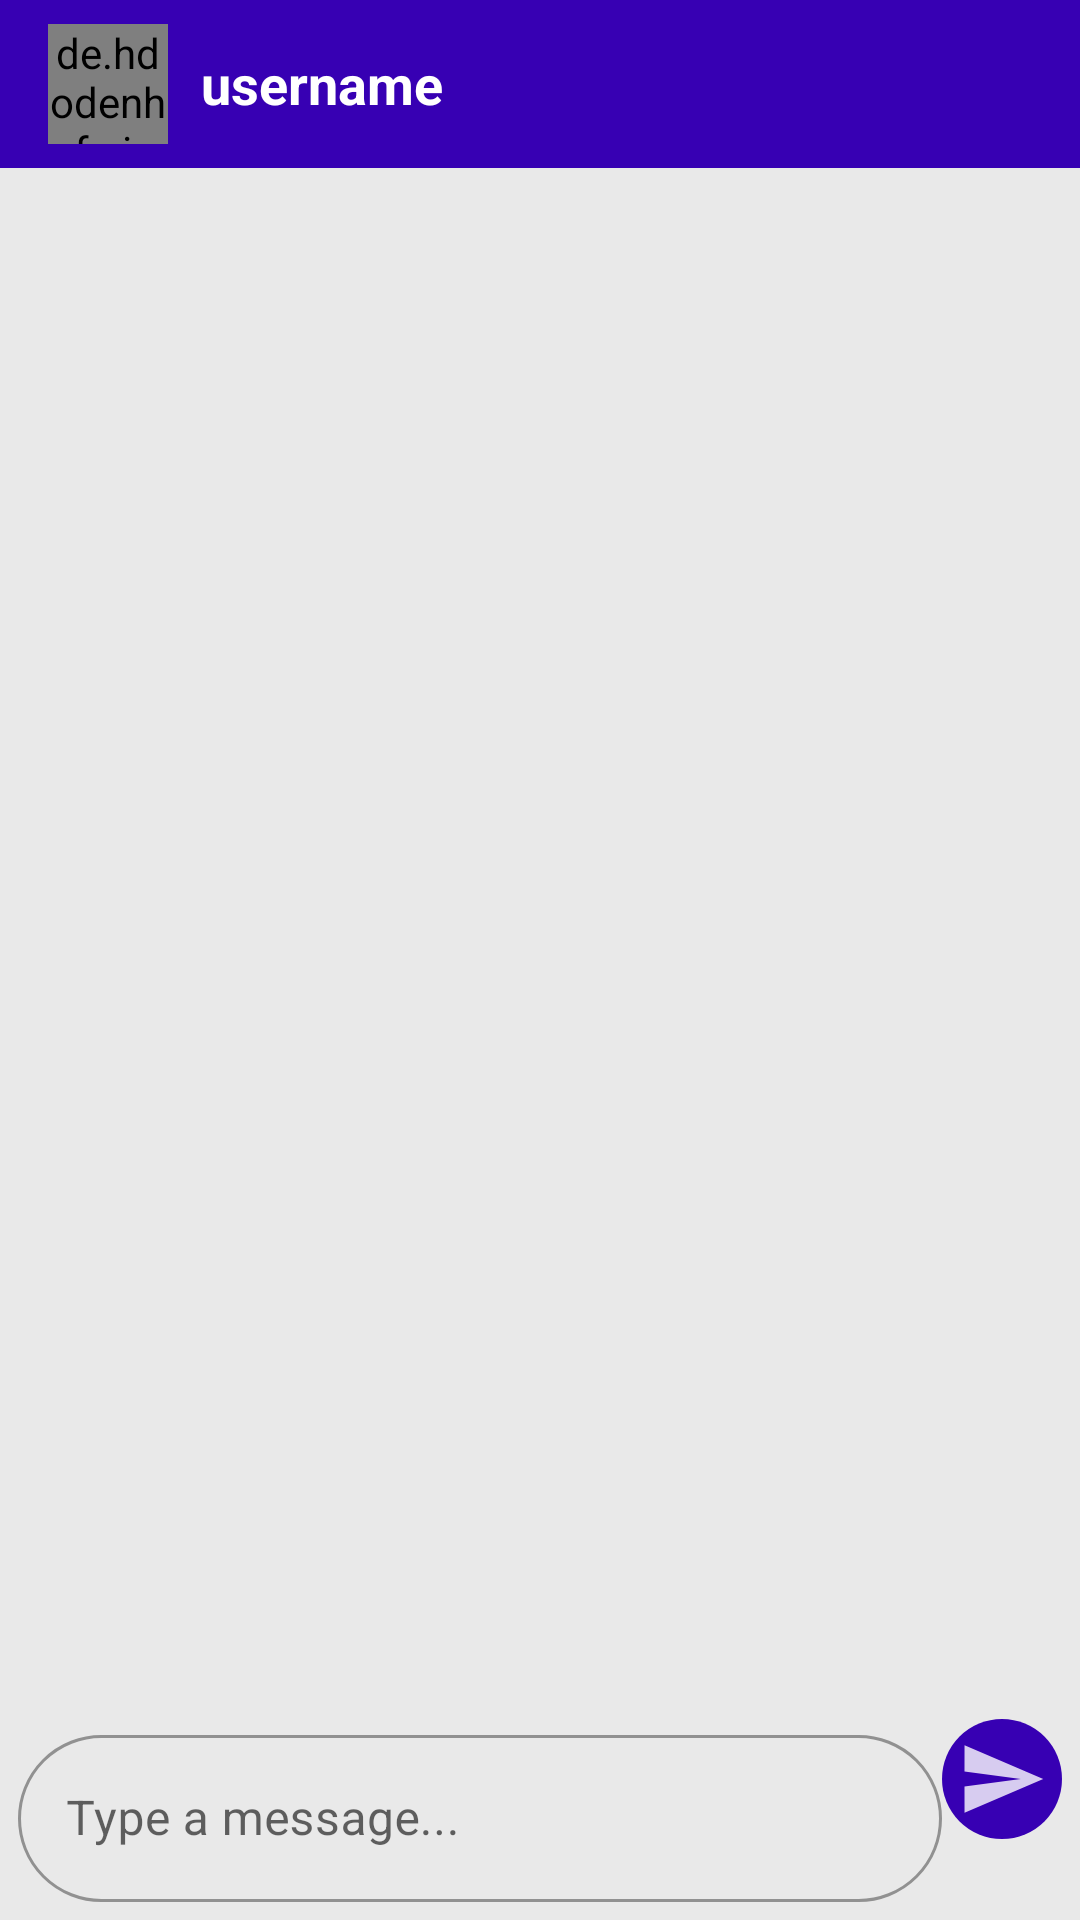

Screen size 1080*1920. Icon name, then its center in pixels as point (x, y):
send: point (1002, 1779)
